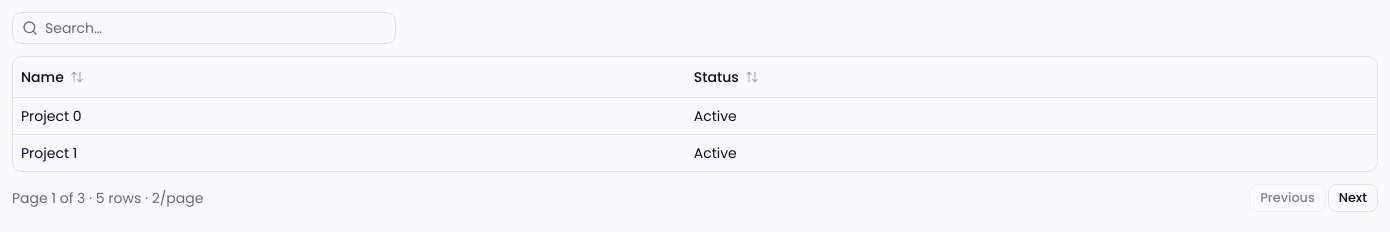
DataTable › paginates when there are more rows than the page size
This screenshot has width=1390, height=232.
Expected: the text "Page 1 of 3 · 5 rows · 2/page" is shown, [12,188,204,208]
Expected: the text "Project 0" is shown, [13,97,686,134]
Click the button "Next" at (1353, 198), box [1328,184,1378,212]
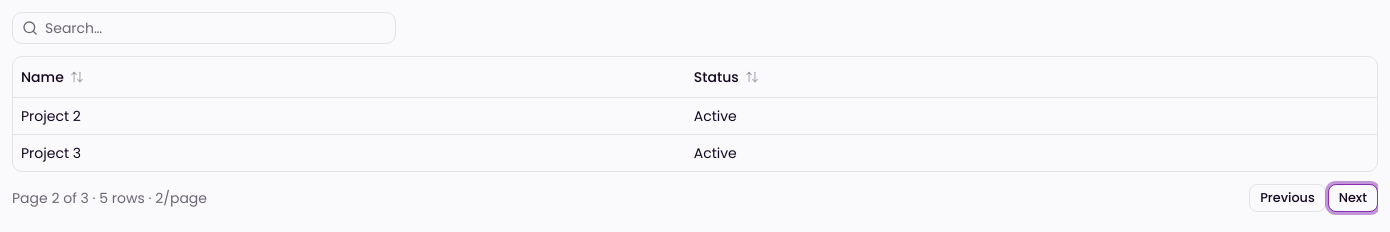
Result: the text "Page 2 of 3 · 5 rows · 2/page" is shown at [12,188,207,208]
Result: the text "Project 2" is shown at [13,97,686,134]
Result: the text "Project 0" is gone
